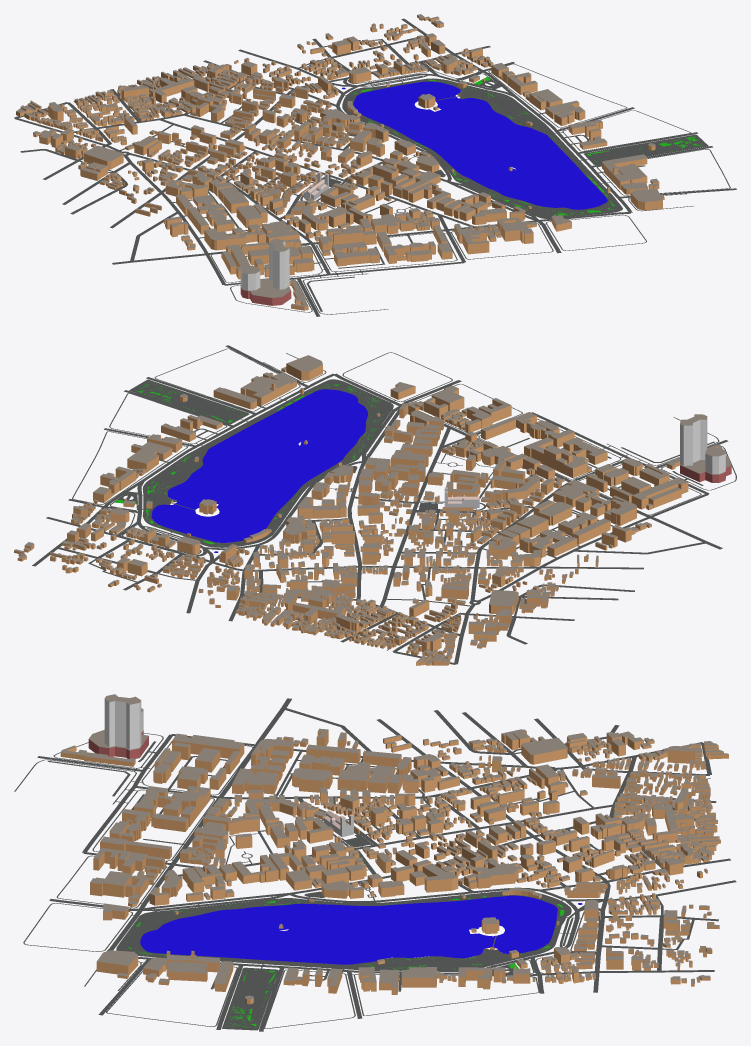
The model's file is maphoguom.fbx.
3 renders of one model, top to bottom at view 1: azimuth 30°, elevation 25°; view 2: azimuth 150°, elevation 25°; view 3: azimuth 270°, elevation 25°, orthographic. The views are drawn at different scales.
Parts seen in each view (by area): view 1: map_10.osm_buildings, map_10.osm_water, map_10.osm_roads_residential, map_10.osm_areas_pedestrian, map_10.osm_paths_footway, map_10.osm_roads_tertiary, map_10.osm_roads_service, map_10.osm_roads_secondary, map_10.osm_vegetation; view 2: map_10.osm_buildings, map_10.osm_water, map_10.osm_roads_residential, map_10.osm_areas_pedestrian, map_10.osm_paths_footway, map_10.osm_roads_tertiary, map_10.osm_roads_service, map_10.osm_roads_secondary, map_10.osm_vegetation; view 3: map_10.osm_buildings, map_10.osm_water, map_10.osm_areas_pedestrian, map_10.osm_roads_residential, map_10.osm_paths_footway, map_10.osm_roads_tertiary, map_10.osm_roads_service, map_10.osm_roads_secondary, map_10.osm_vegetation.
Part boxes in pixels (box(x1,y1,x2,y2)): map_10.osm_buildings: box(16, 14, 664, 310); map_10.osm_water: box(342, 81, 607, 209); map_10.osm_roads_residential: box(14, 18, 736, 316); map_10.osm_areas_pedestrian: box(329, 76, 708, 218); map_10.osm_paths_footway: box(73, 55, 730, 314); map_10.osm_roads_tertiary: box(110, 73, 632, 285); map_10.osm_roads_service: box(78, 39, 645, 311); map_10.osm_roads_secondary: box(112, 212, 630, 264); map_10.osm_vegetation: box(353, 77, 703, 216); map_10.osm_buildings: box(14, 355, 731, 665); map_10.osm_water: box(151, 389, 367, 552); map_10.osm_roads_residential: box(32, 345, 728, 664); map_10.osm_areas_pedestrian: box(118, 379, 442, 547); map_10.osm_paths_footway: box(72, 348, 736, 650); map_10.osm_roads_tertiary: box(125, 373, 709, 571); map_10.osm_roads_service: box(88, 405, 714, 616); map_10.osm_roads_secondary: box(333, 373, 722, 549); map_10.osm_vegetation: box(114, 381, 383, 545); map_10.osm_buildings: box(60, 694, 728, 1004); map_10.osm_water: box(140, 895, 582, 964); map_10.osm_areas_pedestrian: box(116, 834, 572, 1030); map_10.osm_roads_residential: box(37, 707, 736, 1031); map_10.osm_paths_footway: box(14, 733, 710, 1028); map_10.osm_roads_tertiary: box(82, 719, 610, 974); map_10.osm_roads_service: box(48, 741, 694, 991); map_10.osm_roads_secondary: box(49, 698, 291, 951); map_10.osm_vegetation: box(127, 895, 564, 1027).
Bounding box in the file's own units: 119849 × 9276 × 109791.
